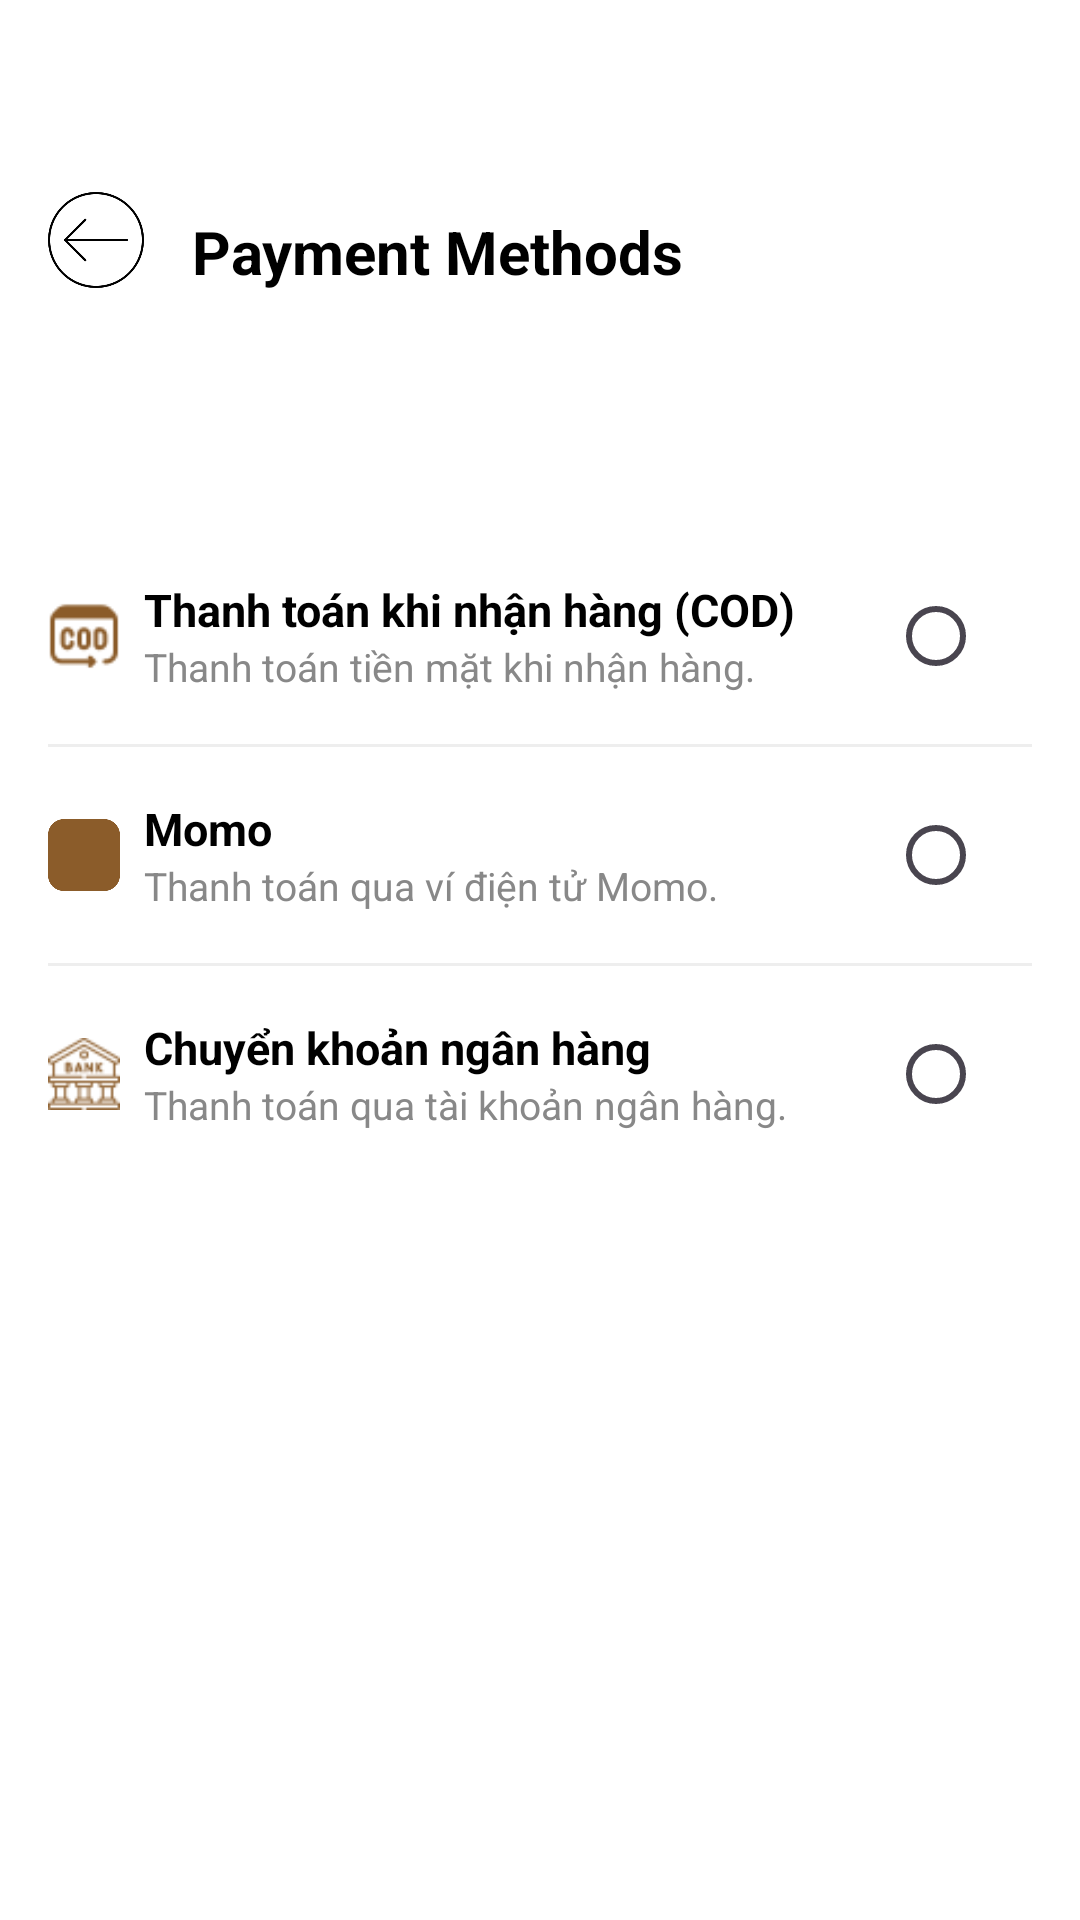

Screen size 1080w x 1920h. Icon name, then its box in pixels as [x1=x1, y1=y1, x2=x2, y2=y2]:
Back: [x1=48, y1=192, x2=144, y2=288]
